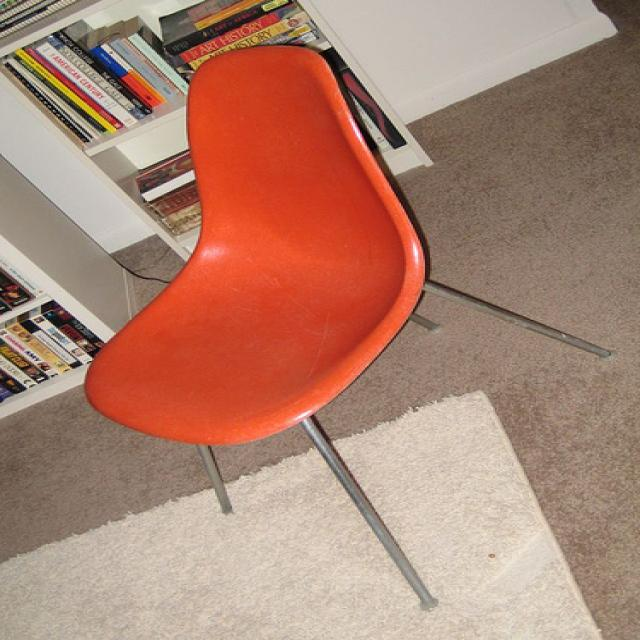chair: (81, 42, 614, 614)
